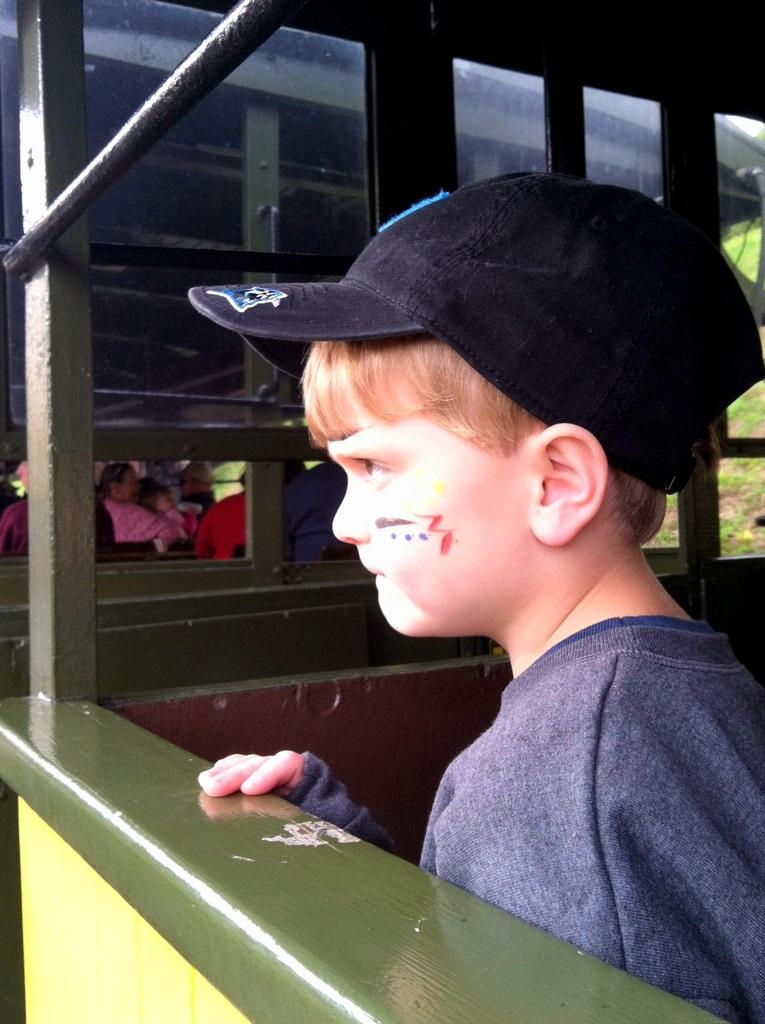Hat: (185, 167, 764, 492)
